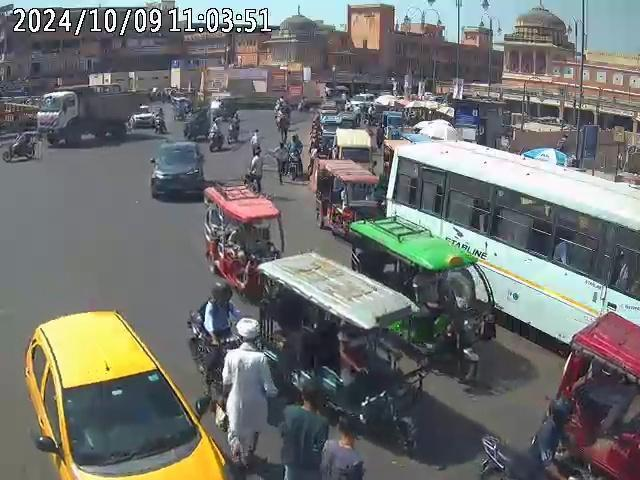auto: (252, 251, 427, 445), (549, 310, 639, 479), (202, 181, 285, 292), (313, 156, 380, 240)
bus: (387, 137, 639, 370)
car: (24, 307, 231, 479), (149, 140, 207, 200)
helmet: (550, 399, 576, 428), (209, 282, 233, 304)
motorbike-rider: (474, 397, 596, 480), (186, 281, 243, 412), (2, 129, 36, 163)
person: (216, 319, 281, 474), (277, 390, 330, 478), (318, 410, 367, 479), (246, 147, 265, 192), (274, 143, 291, 184), (553, 236, 568, 266)
scooty-rider: (206, 119, 224, 152)
truck: (36, 85, 140, 144)
